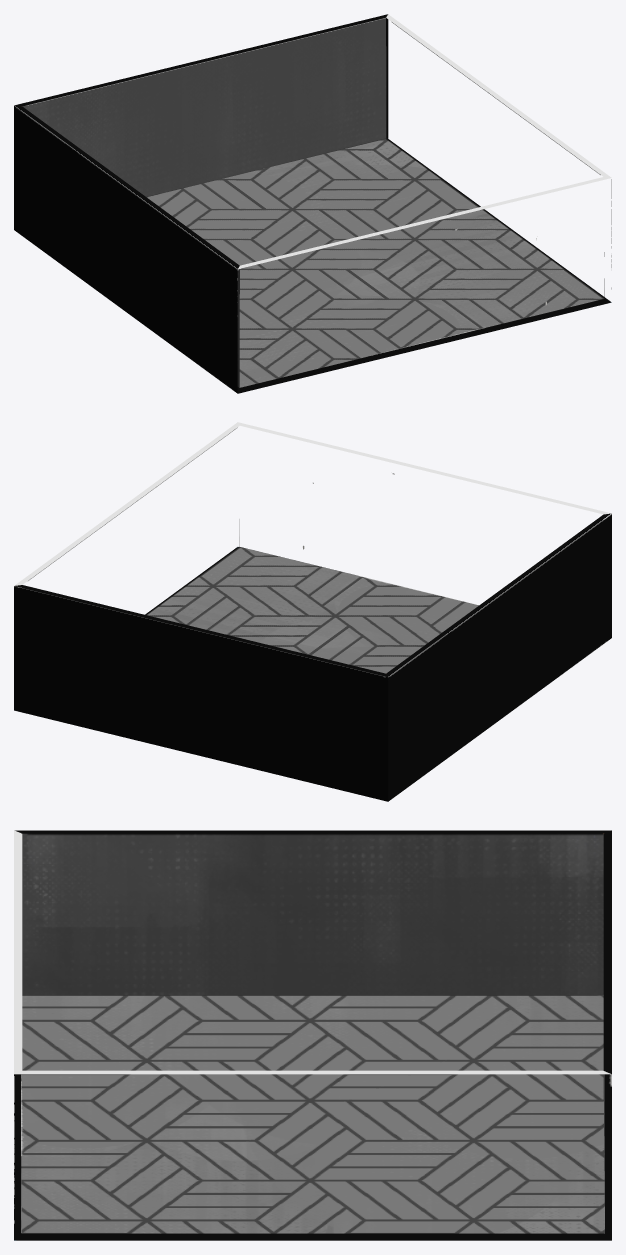
Rendered from Cenário_Jornal.fbx.
3 renders of one model, top to bottom at view 1: azimuth 30°, elevation 25°; view 2: azimuth 150°, elevation 25°; view 3: azimuth 270°, elevation 25°, orthographic. The views are drawn at different scales.
Parts seen in each view (by area): view 1: Cenario_delegacia; view 2: Cenario_delegacia; view 3: Cenario_delegacia.
Boxes of the visible parts, x1,y1,x2,y2 form: Cenario_delegacia: (14, 14, 611, 393); Cenario_delegacia: (14, 422, 611, 801); Cenario_delegacia: (14, 830, 611, 1240).
Size of the model in its own units: 20617 by 6558 by 21357.
